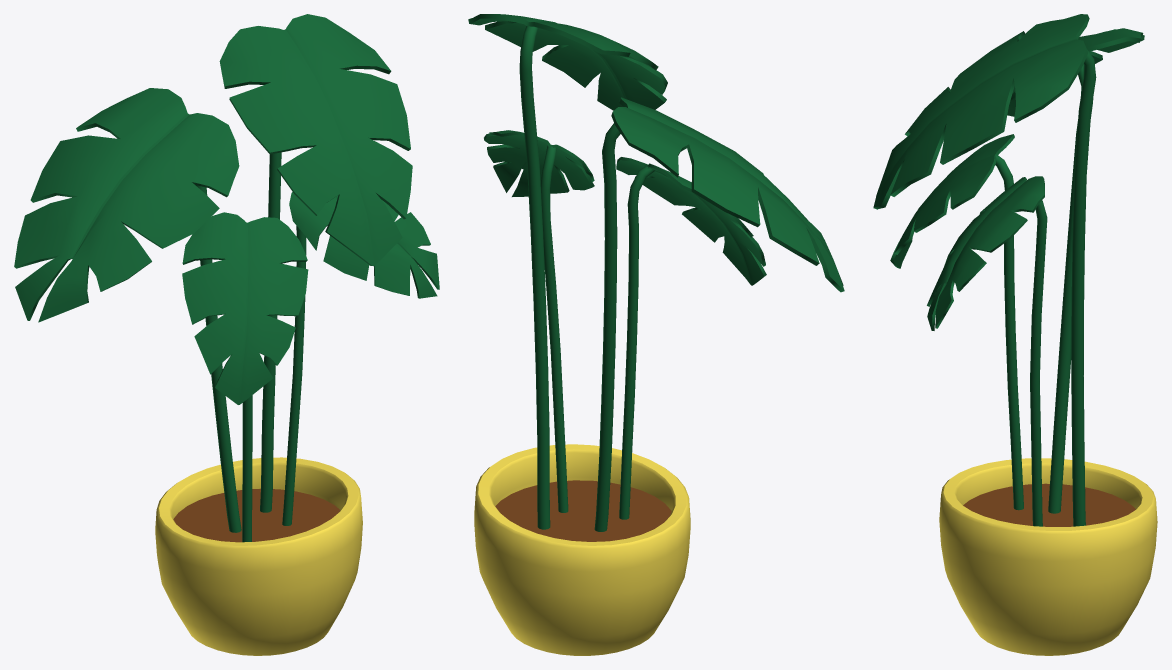
File: Plant_1.fbx
3 views of the same model, side by side, from view 1: azimuth 30°, elevation 25°; view 2: azimuth 150°, elevation 25°; view 3: azimuth 270°, elevation 25° (orthographic). The views are drawn at different scales.
Parts seen in each view (by area): view 1: Plant_1; view 2: Plant_1; view 3: Plant_1.
Part boxes in pixels (left/top/right/bottom): Plant_1: left=14, top=14, right=439, bottom=655; Plant_1: left=468, top=14, right=844, bottom=655; Plant_1: left=873, top=14, right=1157, bottom=655.
Size of the model in its own units: 0.892 by 1.33 by 0.5618.
